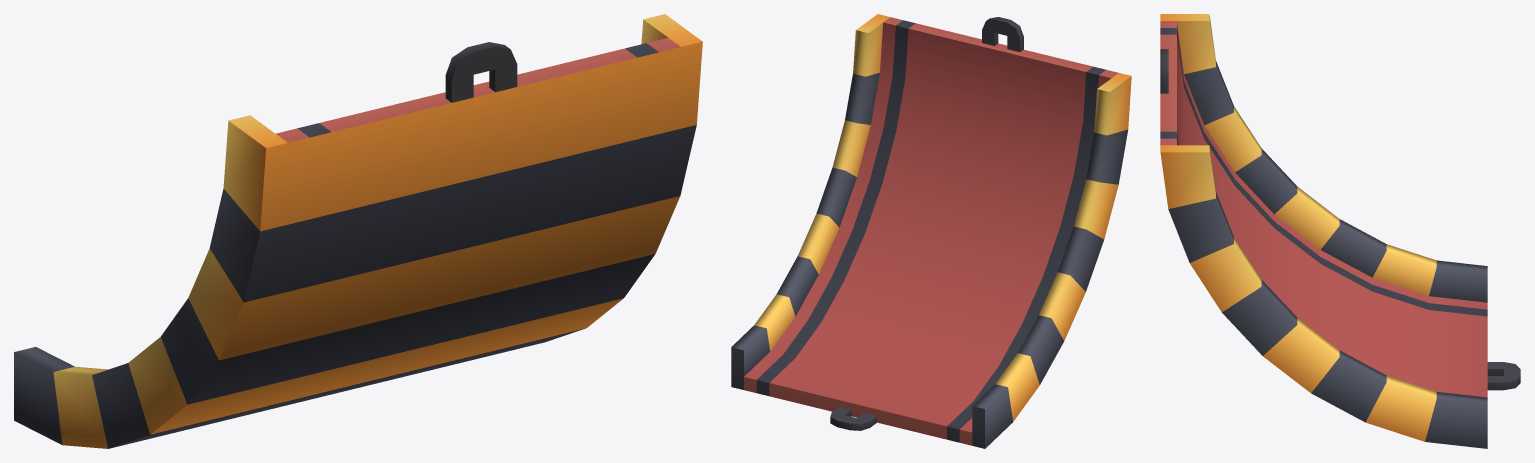
Rendered from track-road-wide-straight-bend.fbx.
3 views of the same model, side by side, from view 1: azimuth 30°, elevation 25°; view 2: azimuth 150°, elevation 25°; view 3: azimuth 270°, elevation 25° (orthographic). The views are drawn at different scales.
Visible parts, largest first — view 1: track-road-wide-straight-bend; view 2: track-road-wide-straight-bend; view 3: track-road-wide-straight-bend.
Boxes of the visible parts, x1,y1,x2,y2 form: track-road-wide-straight-bend: (14,14,702,448); track-road-wide-straight-bend: (731,14,1131,448); track-road-wide-straight-bend: (1160,14,1520,448).
Size of the model in its own units: 200 by 220 by 220.
